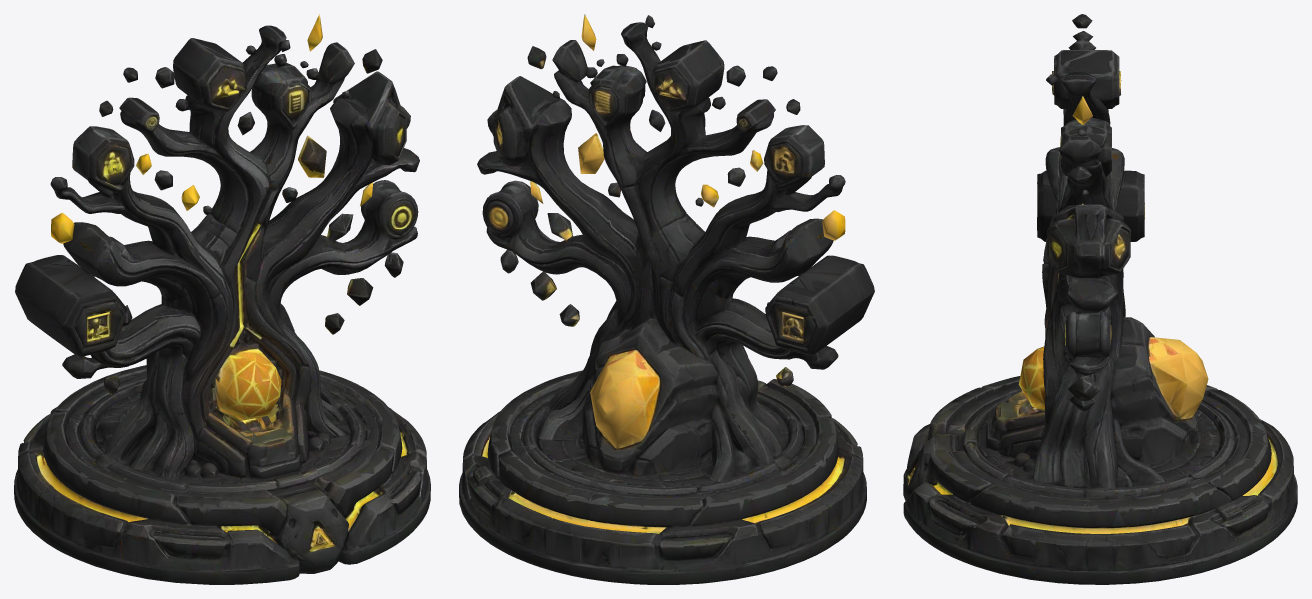
File: Ember_Tree_of_Knowled.glb
The picture shows the model from 3 angles, left to right: view 1: azimuth 30°, elevation 25°; view 2: azimuth 150°, elevation 25°; view 3: azimuth 270°, elevation 25°; orthographic projection. The views are drawn at different scales.
Visible parts, largest first — view 1: Ember_Tree_of_Knowled; view 2: Ember_Tree_of_Knowled; view 3: Ember_Tree_of_Knowled.
Part boxes in pixels (bbox=[...]): Ember_Tree_of_Knowled: bbox=[14, 14, 430, 584]; Ember_Tree_of_Knowled: bbox=[459, 14, 874, 584]; Ember_Tree_of_Knowled: bbox=[903, 14, 1297, 584].
Bounding box in the file's own units: 1.58 × 1.9 × 1.51.
1 material, 1 textured.
